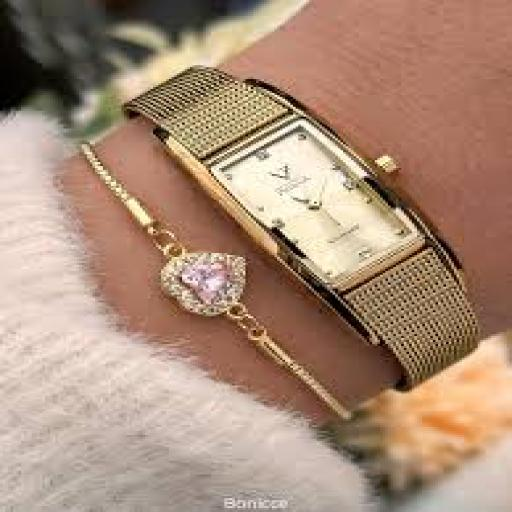KolSaati: (82, 43, 500, 377)
